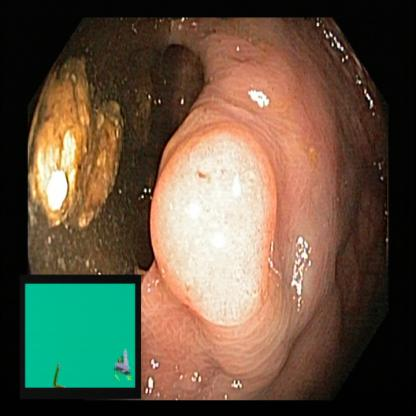Labels: (26, 272, 140, 398)
Polyps: (158, 125, 281, 330), (30, 55, 130, 223)
